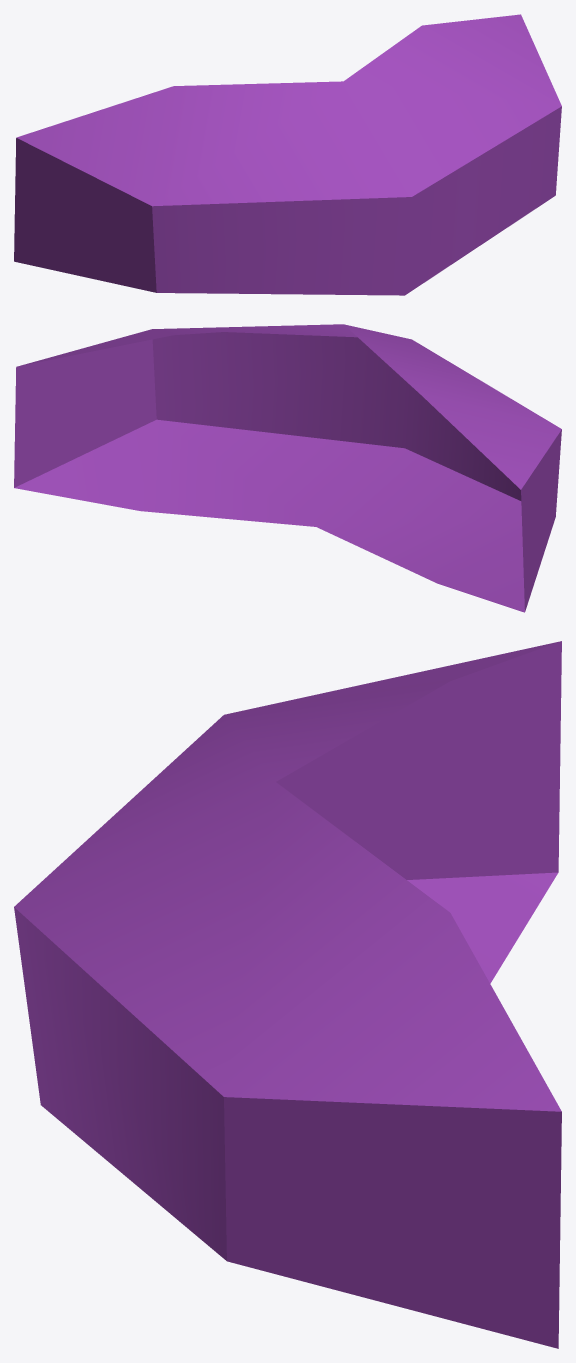
File: Male_Mustache_01_v4.fbx
3 views of the same model, one above another, from view 1: azimuth 30°, elevation 25°; view 2: azimuth 150°, elevation 25°; view 3: azimuth 270°, elevation 25° (orthographic). The views are drawn at different scales.
Visible parts, largest first — view 1: Male_Mustache_01_v4; view 2: Male_Mustache_01_v4; view 3: Male_Mustache_01_v4.
Part boxes in pixels (box(x1,y1,x2,y2)): Male_Mustache_01_v4: box(14, 14, 561, 295); Male_Mustache_01_v4: box(14, 324, 561, 612); Male_Mustache_01_v4: box(14, 641, 561, 1348).
Size of the model in its own units: 23.74 by 8.13 by 11.54.
